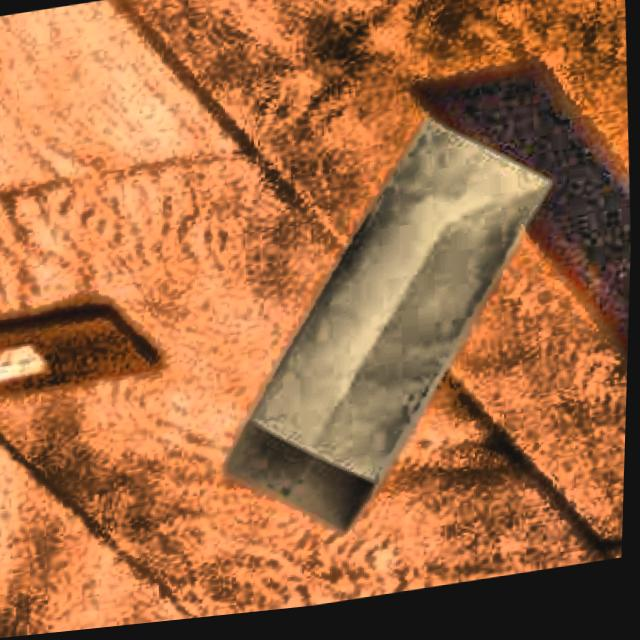Paper-bag: (209, 107, 578, 551)
